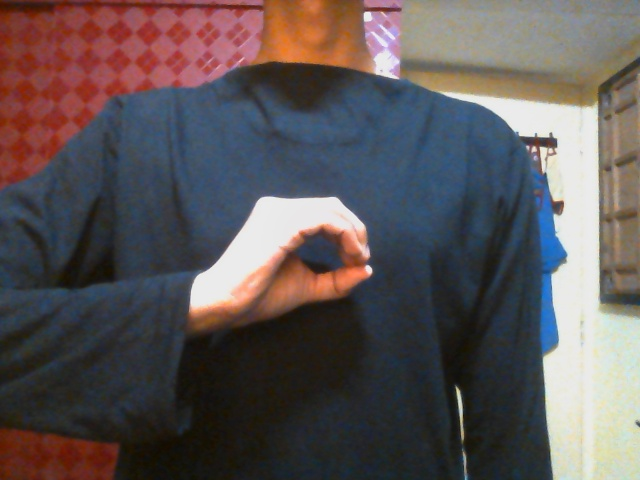O: (211, 192, 375, 327)
